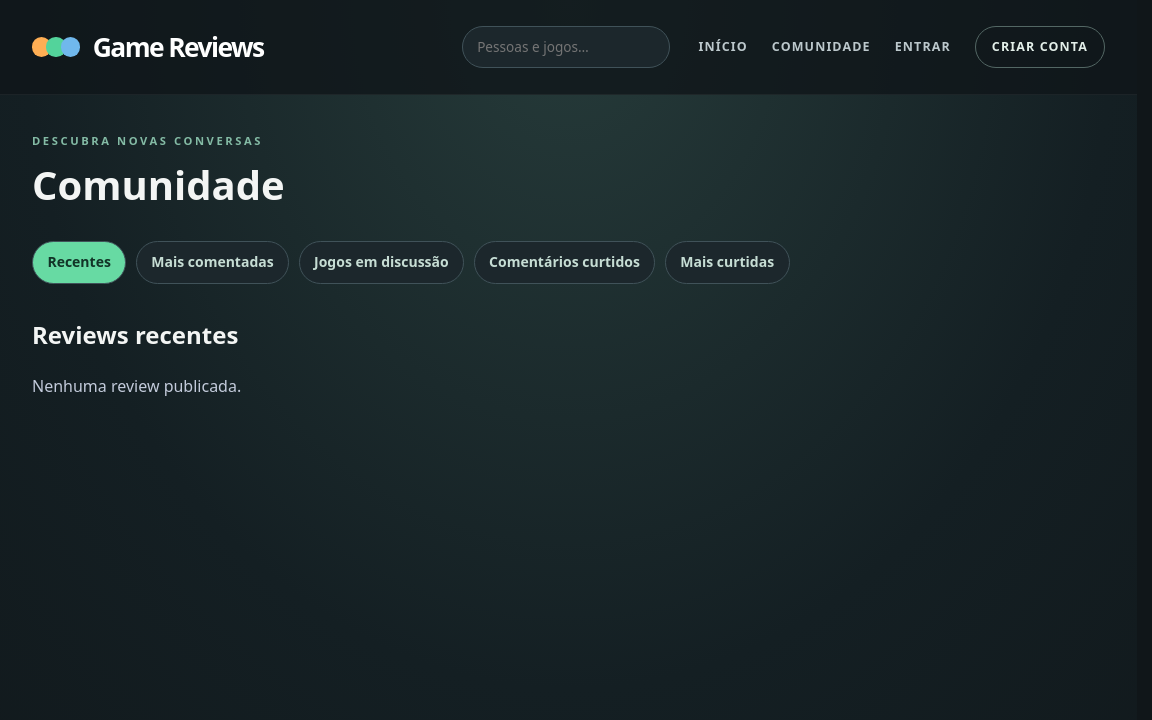
Test: ranking público usa 7d/1/20, mantém seções e distingue total e período sem estado pessoal
Click the button "Comentários curtidos".
click(564, 262)  # box left=474, top=240, right=655, bottom=284
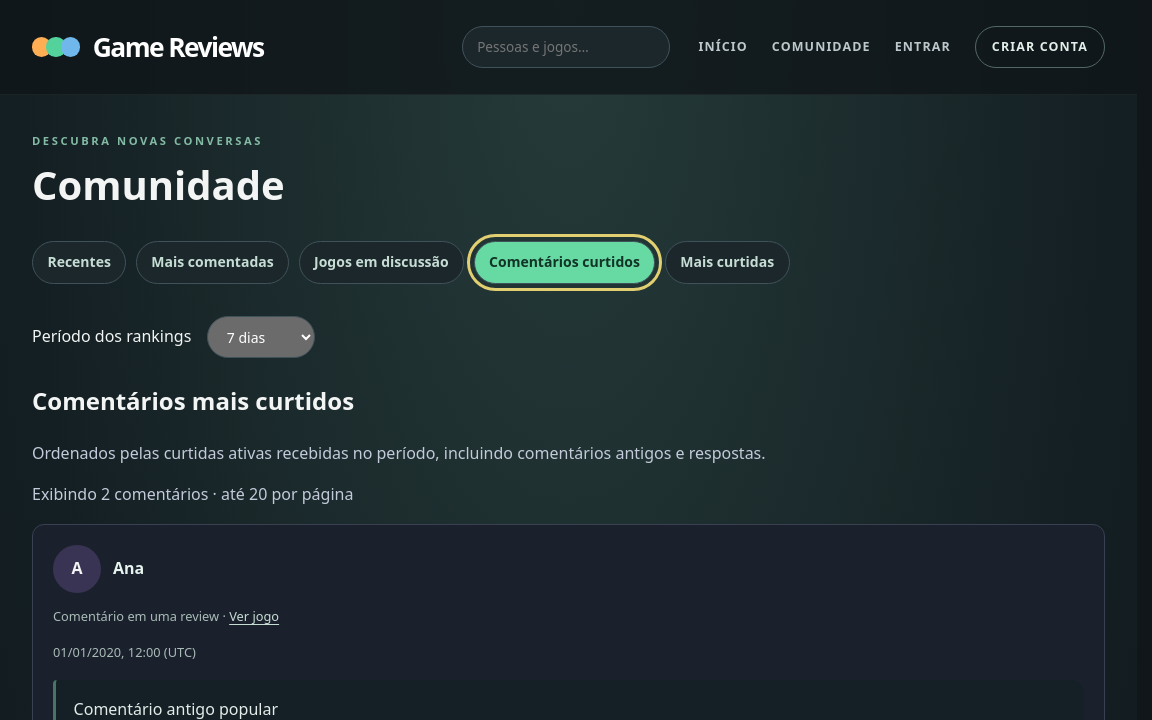
Expected: the button "Recentes" is shown, left=32, top=240, right=126, bottom=284
Expected: the text "Exibindo 2 comentários · até 20 por página" is shown, left=32, top=483, right=353, bottom=505
